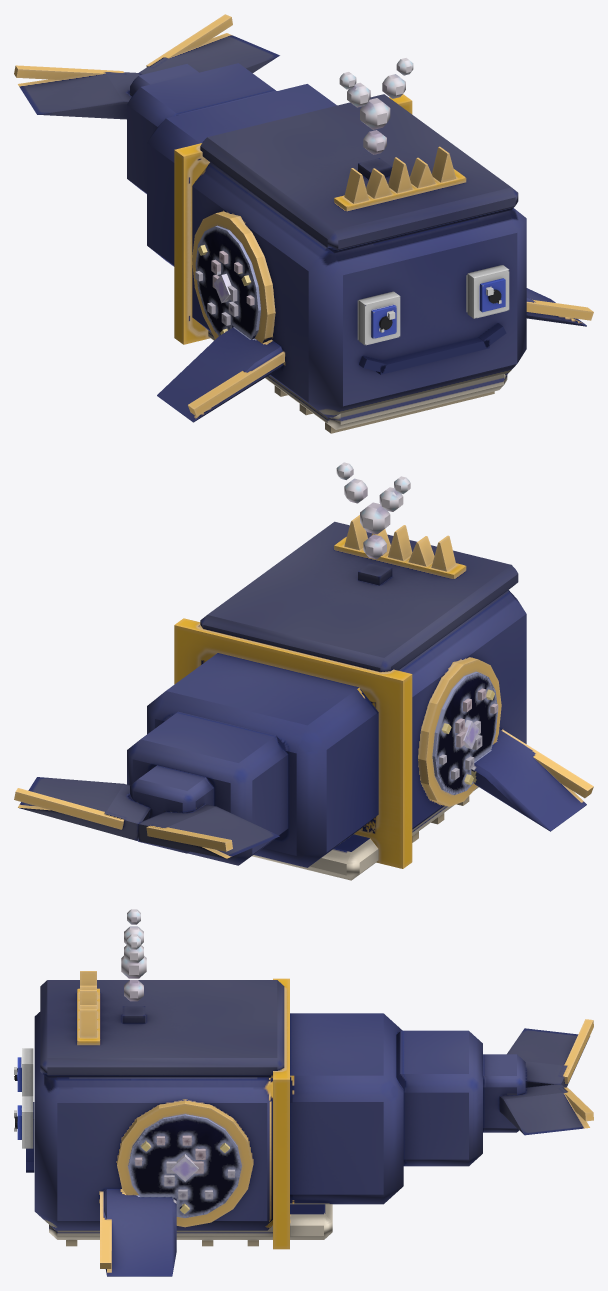
File: BaleineGalaxie_Rig.fbx
3 views of the same model, one above another, from view 1: azimuth 30°, elevation 25°; view 2: azimuth 150°, elevation 25°; view 3: azimuth 270°, elevation 25° (orthographic). The views are drawn at different scales.
Visible parts, largest first — view 1: Body, Tail, FinR, Spout, Galaxy1, FinL; view 2: Body, Tail, FinR, Spout, Galaxy1; view 3: Body, Tail, FinL, Spout, Galaxy0.
Part boxes in pixels (x1=…): Body: x1=127, y1=63, x2=526, y2=433; Tail: x1=14, y1=14, x2=279, y2=119; FinR: x1=157, y1=327, x2=284, y2=422; Spout: x1=339, y1=58, x2=413, y2=154; Galaxy1: x1=195, y1=245, x2=254, y2=334; FinL: x1=526, y1=288, x2=593, y2=326; Body: x1=127, y1=515, x2=526, y2=880; Tail: x1=14, y1=765, x2=279, y2=858; FinR: x1=471, y1=729, x2=593, y2=831; Spout: x1=336, y1=462, x2=410, y2=559; Galaxy1: x1=439, y1=688, x2=498, y2=784; Body: x1=14, y1=971, x2=482, y2=1249; Tail: x1=483, y1=1019, x2=593, y2=1135; FinL: x1=100, y1=1189, x2=176, y2=1276; Spout: x1=121, y1=909, x2=146, y2=1001; Galaxy0: x1=135, y1=1135, x2=234, y2=1213.
Size of the model in its own units: 7.87 by 6 by 10.95.
1 material, 1 textured.
